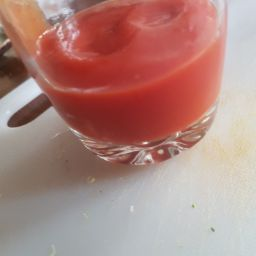Tomato paste: (24, 4, 231, 126)
